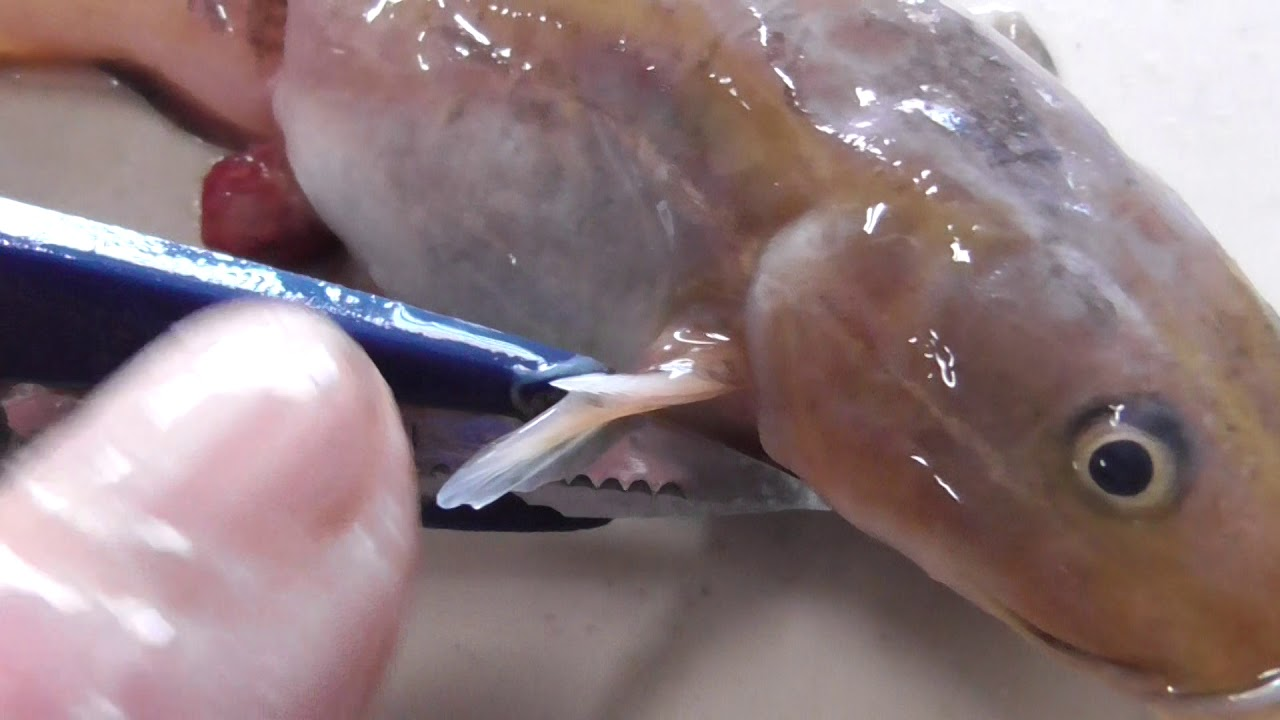gonzui: (441, 23, 1263, 693)
